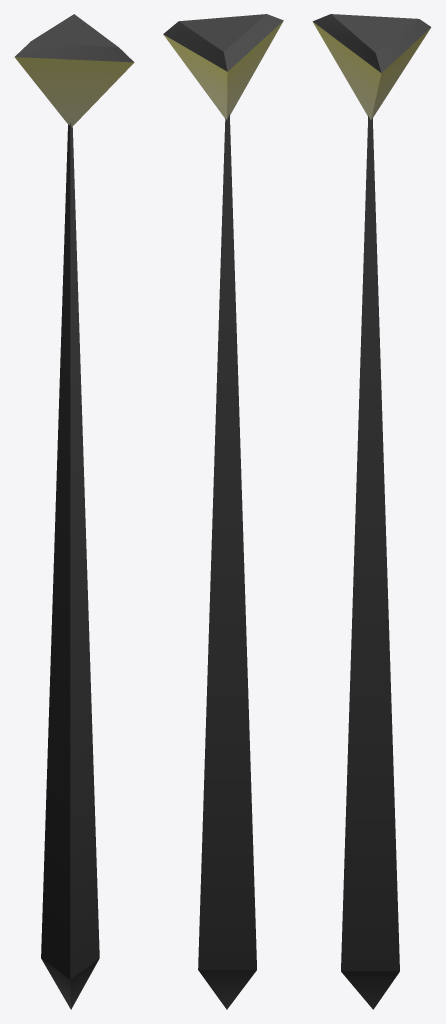
File: c_street_lamp_vertical_aa.fbx
3 views of the same model, side by side, from view 1: azimuth 30°, elevation 25°; view 2: azimuth 210°, elevation 25°; view 3: azimuth 330°, elevation 25° (orthographic).
Parts seen in each view (by area): view 1: c_street_lamp_vertical_aa; view 2: c_street_lamp_vertical_aa; view 3: c_street_lamp_vertical_aa.
Part boxes in pixels (bbox=[...]): c_street_lamp_vertical_aa: bbox=[14, 14, 134, 1009]; c_street_lamp_vertical_aa: bbox=[163, 14, 283, 1009]; c_street_lamp_vertical_aa: bbox=[312, 14, 431, 1009].
Size of the model in its own units: 0.9515 by 9.44 by 0.9941.
